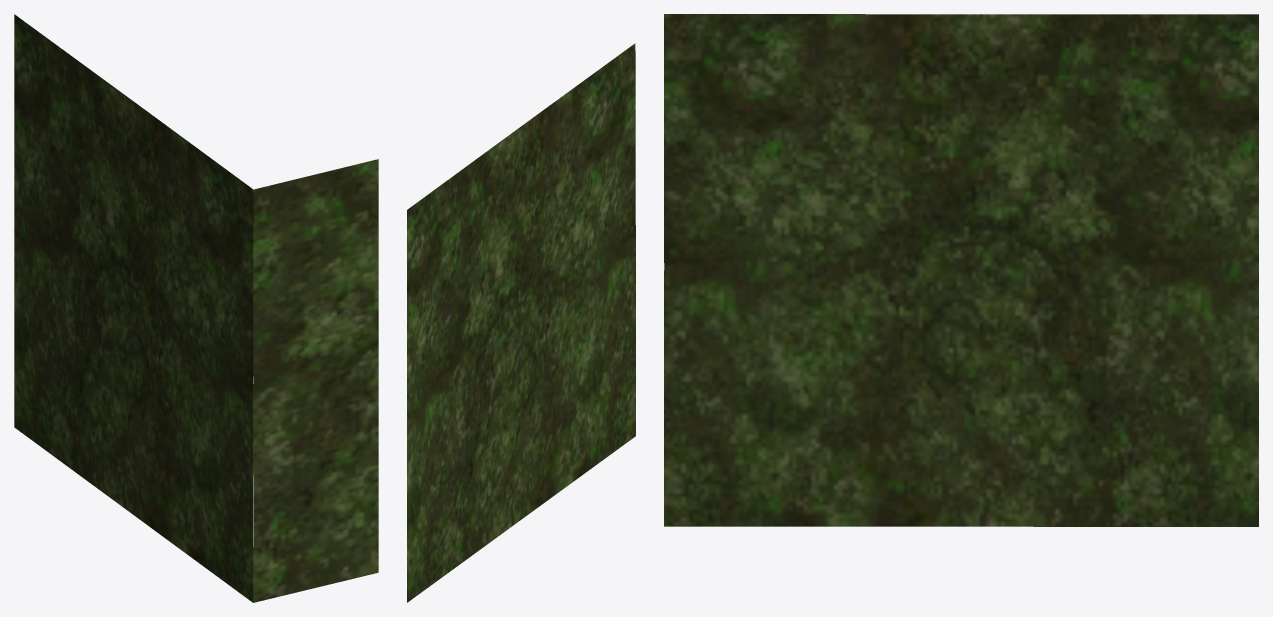
File: OVERHILL_A_01_OBJECT143.fbx
The picture shows the model from 3 angles, left to right: view 1: azimuth 30°, elevation 25°; view 2: azimuth 150°, elevation 25°; view 3: azimuth 270°, elevation 25°; orthographic projection. The views are drawn at different scales.
Visible parts, largest first — view 1: OVERHILL_A_01_OBJECT143; view 2: OVERHILL_A_01_OBJECT143; view 3: OVERHILL_A_01_OBJECT143.
Part boxes in pixels (bbox=[...]): OVERHILL_A_01_OBJECT143: bbox=[14, 14, 378, 602]; OVERHILL_A_01_OBJECT143: bbox=[407, 43, 635, 602]; OVERHILL_A_01_OBJECT143: bbox=[664, 14, 1258, 526].
Bounding box in the file's own units: 9998 × 31455 × 33046.
1 material, 1 textured.
